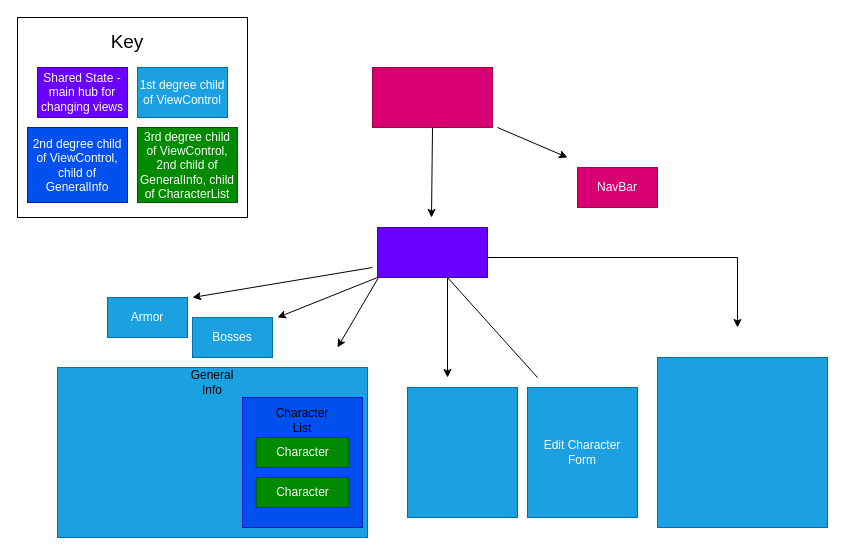
Some shapes in this 845 by 555 pixel diagram are drawn without their labels. The shapes that lost their labels are listed below. From the top down, each one's centre as x and y in pixels, then its label:
At [432,97]: "App".
At [432,252]: "ViewControl".
At [462,452]: "NewCharacterForm".
At [742,442]: "Character Detail".
